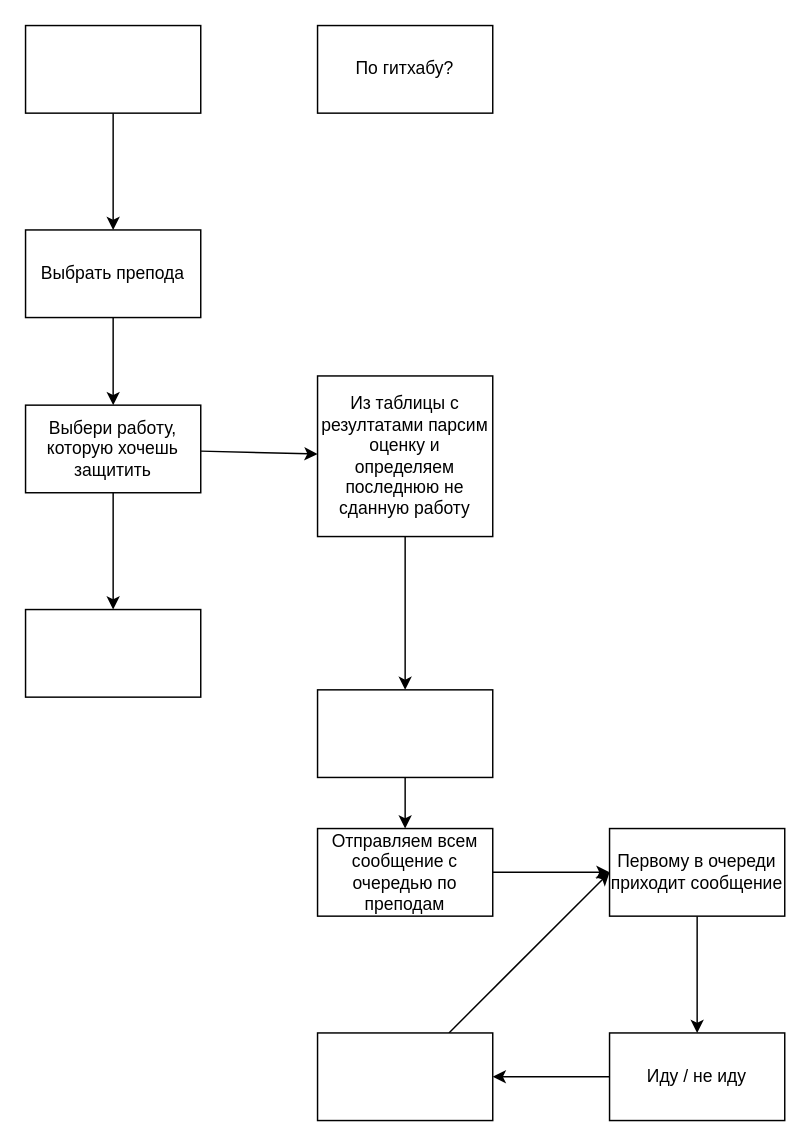
Some shapes in this 810 by 1146 pixel diagram are drawn without their labels. The centre of each missing label's shape, as x and y in pixels:
"Выбираем всех и сортируем по: 1) Типу таски 2) Random.choise" goes at pixel 404 732.
"Записать" goes at pixel 112 68.
"Защитился (если не сдал, то в конец очереди)" goes at pixel 404 1076.
"Получаешь очередь, когда сдавать" goes at pixel 112 652.
